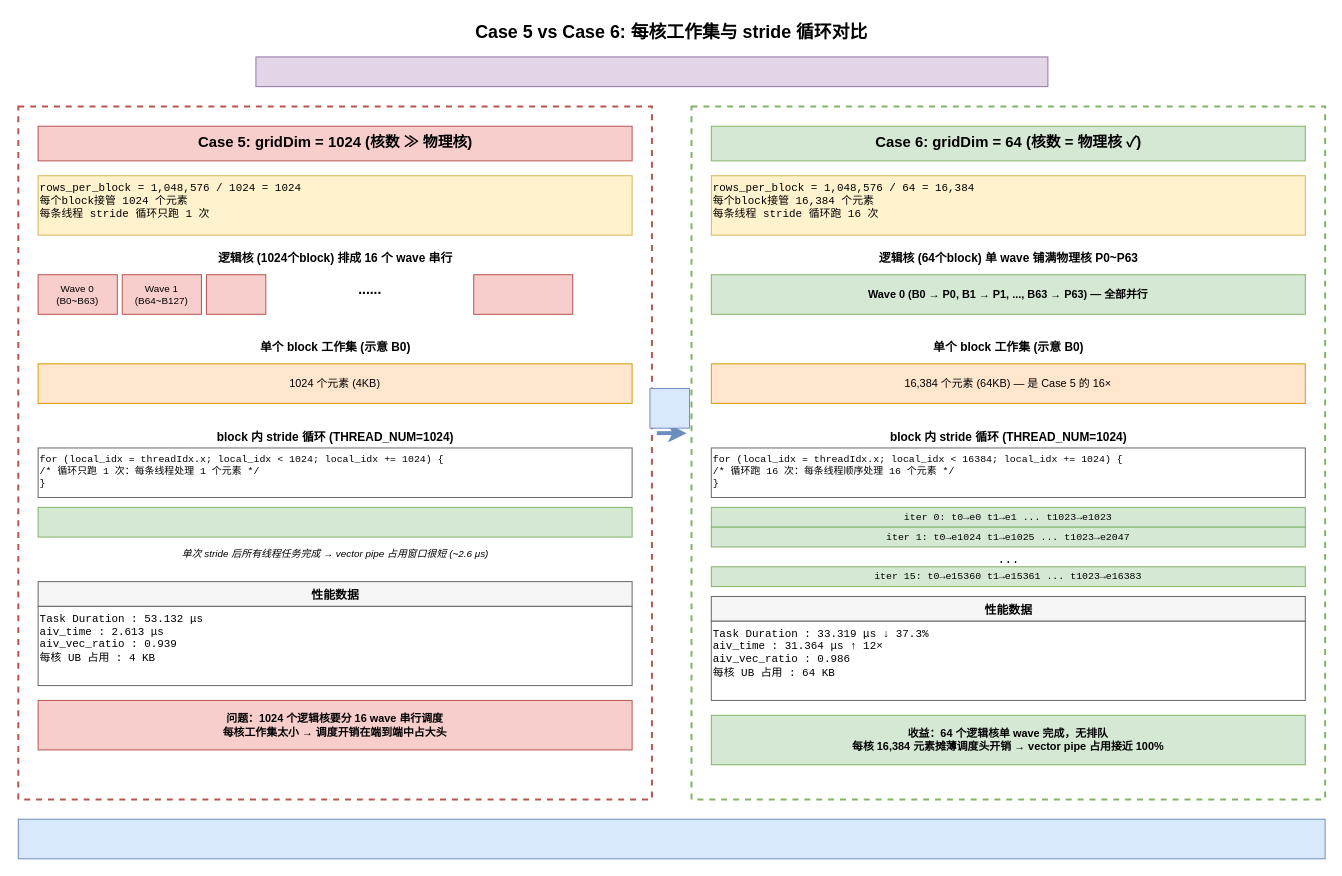
This 1342x876 diagram has some shape labels left out. The shapes that lost their labels are listed below. From the top down, each one's box as (x1, y1, x2, y2) in pixels, then its label:
(255, 56, 1048, 87): 共同输入：index_total_length = 1024 × 1024 = 1,048,576 个元素
(205, 274, 266, 314): Wave 2
(473, 274, 573, 314): Wave 15 (B960~B1023)
(649, 388, 690, 428): 优化 1.59×
(37, 506, 632, 537): t0→e0 t1→e1 t2→e2 ... t1023→e1023
(17, 818, 1325, 859): 核心思路：将 gridDim 从 1024 调到 64 匹配物理核数；每核工作集从 1024 扩展到 16,384，让有效计算时间填满 vector pipe
